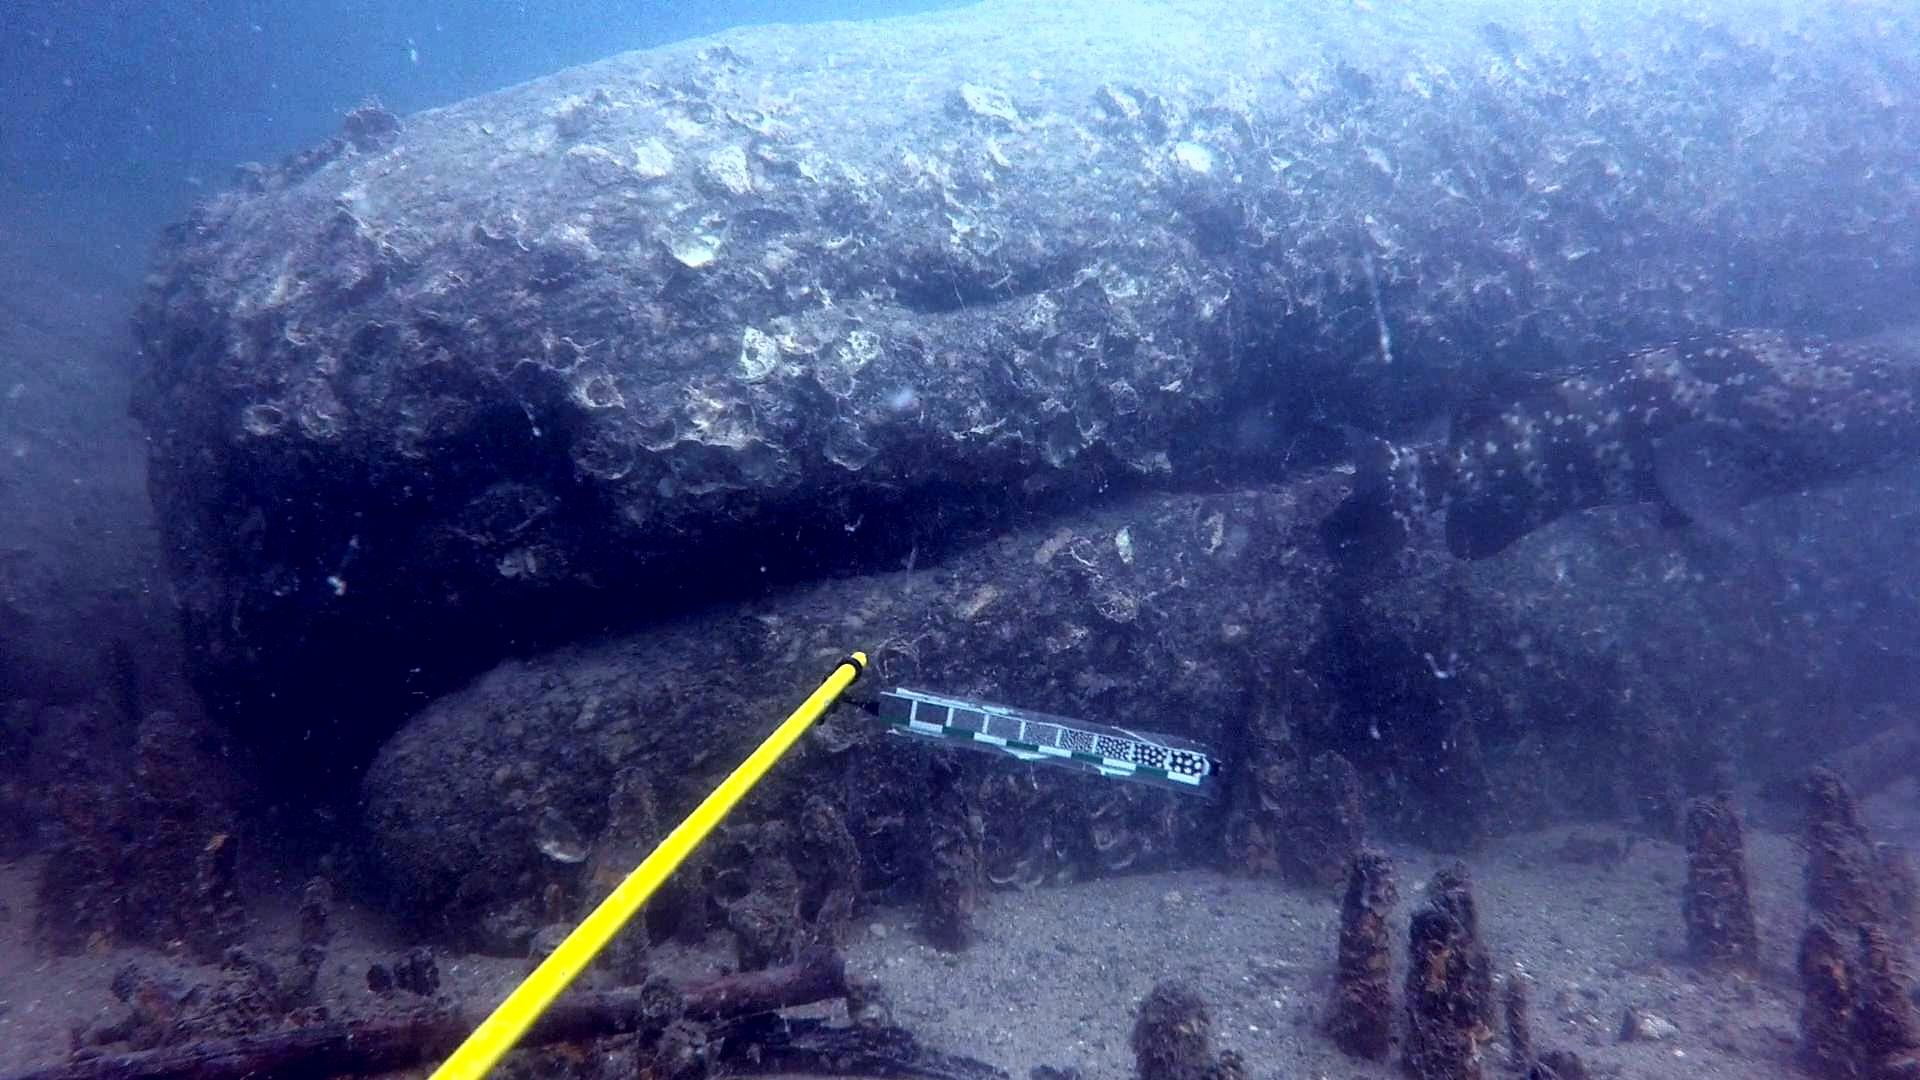epinephelus: (1314, 322, 1920, 583)
